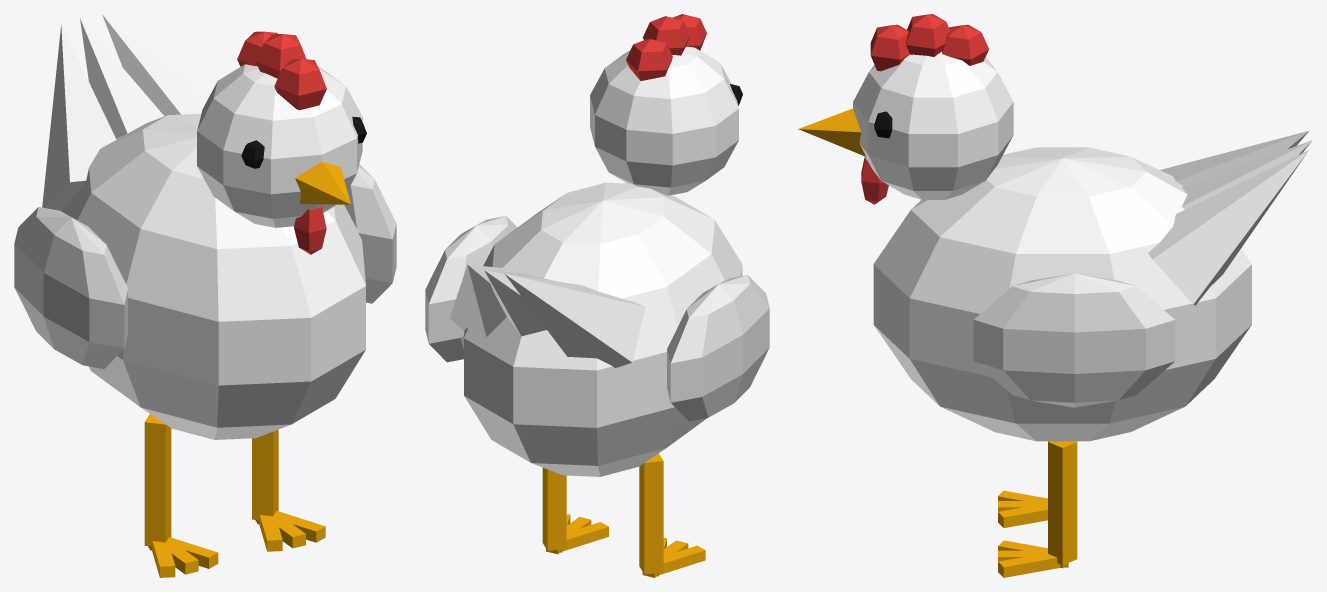
File: huhn.glb
3 views of the same model, side by side, from view 1: azimuth 30°, elevation 25°; view 2: azimuth 150°, elevation 25°; view 3: azimuth 270°, elevation 25° (orthographic). The views are drawn at different scales.
Parts seen in each view (by area): view 1: body-m, head-m, wing-0-m, leg-0-m, wing-1-m, leg-1-m; view 2: body-m, head-m, wing-0-m, wing-1-m, leg-0-m, leg-1-m; view 3: body-m, head-m, wing-1-m, leg-1-m, leg-0-m.
Part boxes in pixels (x1,y1,x2,y2): body-m: (42, 14, 365, 439); head-m: (197, 31, 366, 254); wing-0-m: (14, 207, 128, 369); leg-0-m: (144, 414, 218, 577); wing-1-m: (344, 164, 396, 303); leg-1-m: (252, 429, 325, 551); body-m: (450, 182, 742, 476); head-m: (590, 14, 742, 195); wing-0-m: (667, 275, 769, 421); wing-1-m: (425, 216, 517, 362); leg-0-m: (639, 453, 705, 577); leg-1-m: (542, 467, 608, 554); body-m: (873, 131, 1312, 441); head-m: (798, 14, 1013, 204); wing-1-m: (973, 273, 1175, 407); leg-1-m: (998, 441, 1077, 577); leg-0-m: (998, 441, 1048, 527).
Bounding box in the file's own units: 0.6027 × 0.985 × 0.8753.
